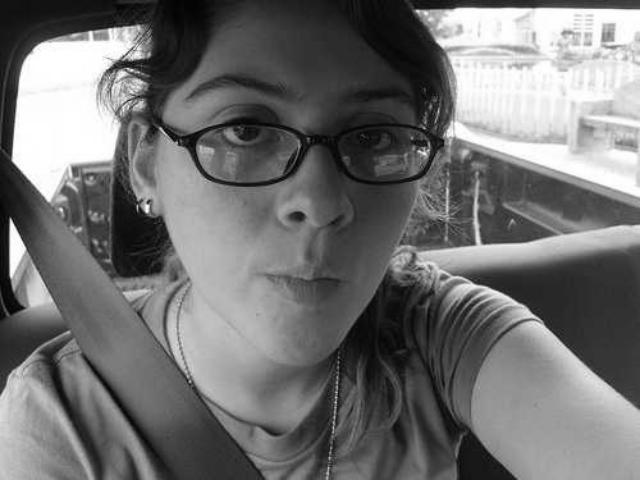SafeDriving: (202, 101, 290, 162), (342, 115, 416, 163)
Seatbelt: (0, 140, 268, 480)
